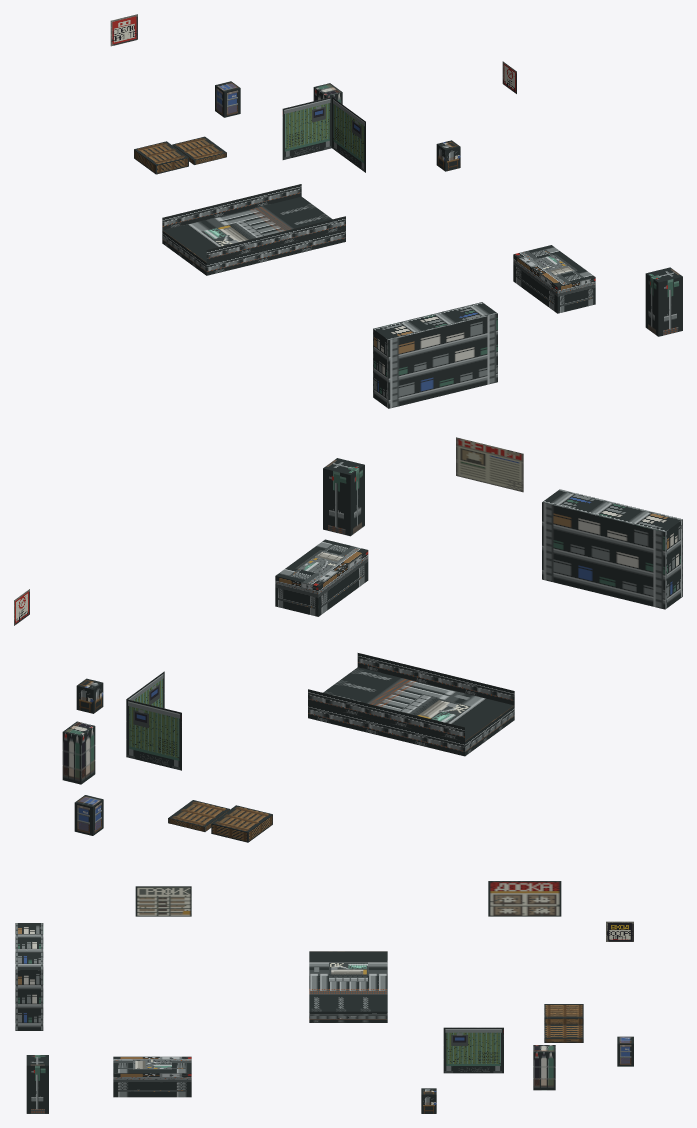
Rendered from machines.glb.
The picture shows the model from 3 angles, top to bottom: view 1: azimuth 30°, elevation 25°; view 2: azimuth 150°, elevation 25°; view 3: azimuth 270°, elevation 25°; orthographic projection. The views are drawn at different scales.
Visible parts, largest first — view 1: machines, parts, signs; view 2: machines, signs, parts; view 3: machines, board, parts, signs.
Part boxes in pixels (<box>): machines: <box>134,81,682,408</box>; parts: <box>201,221,577,276</box>; signs: <box>110,14,516,93</box>; machines: <box>62,458,682,842</box>; signs: <box>14,437,523,625</box>; parts: <box>296,550,470,723</box>; machines: <box>15,923,633,1113</box>; board: <box>135,881,561,916</box>; parts: <box>133,962,367,1069</box>; signs: <box>606,921,633,941</box>.
Size of the model in its own units: 13.9 by 3.6 by 23.9.
4 materials, 4 textured.
